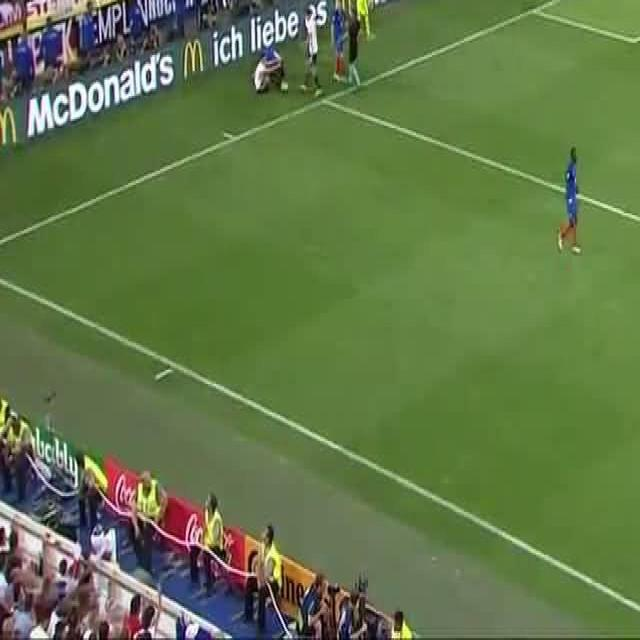player-white: (557, 145, 581, 257), (300, 6, 324, 100), (330, 0, 347, 82), (346, 6, 361, 88), (255, 52, 280, 92), (355, 0, 375, 41)
